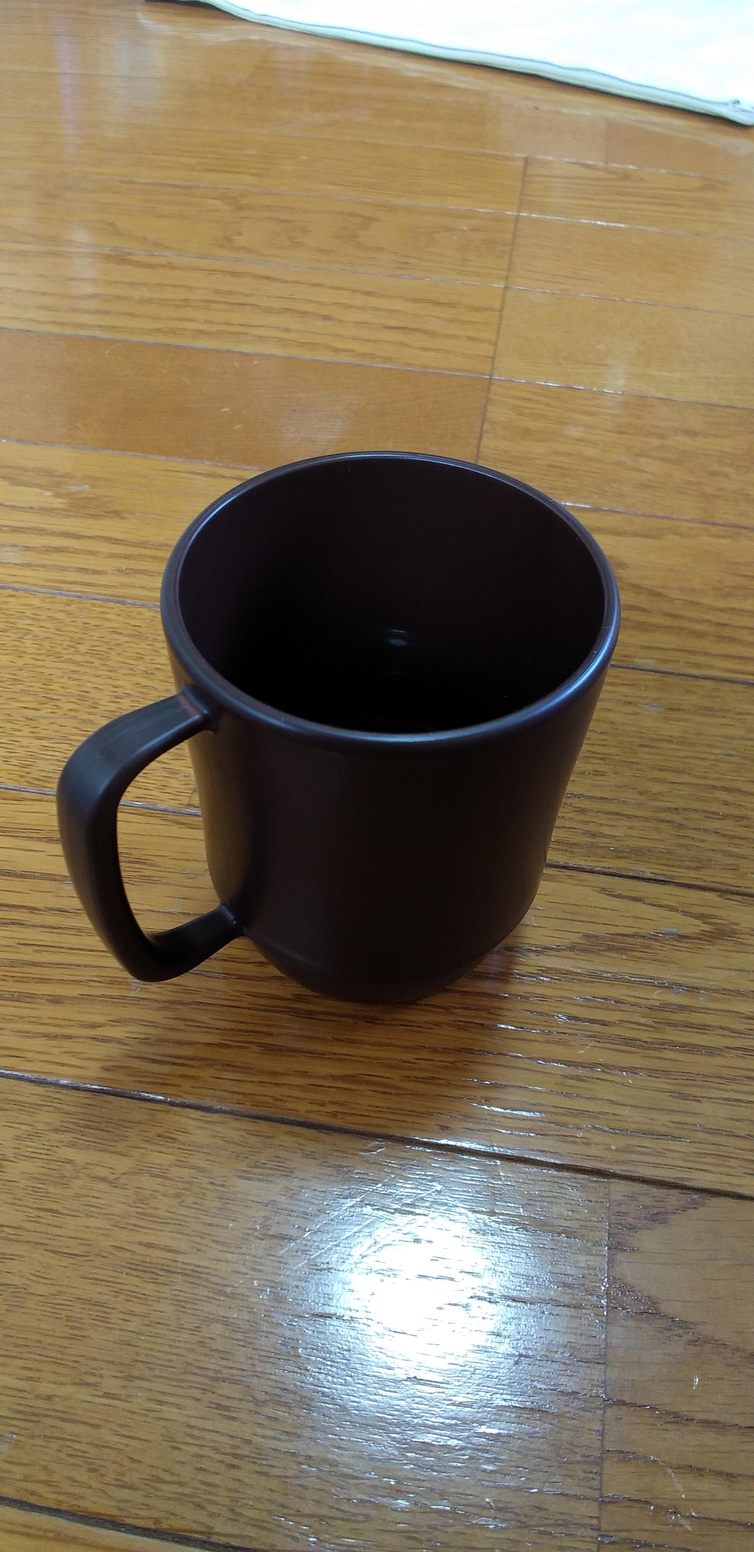mug-real100-3d100: (58, 452, 619, 1002)
